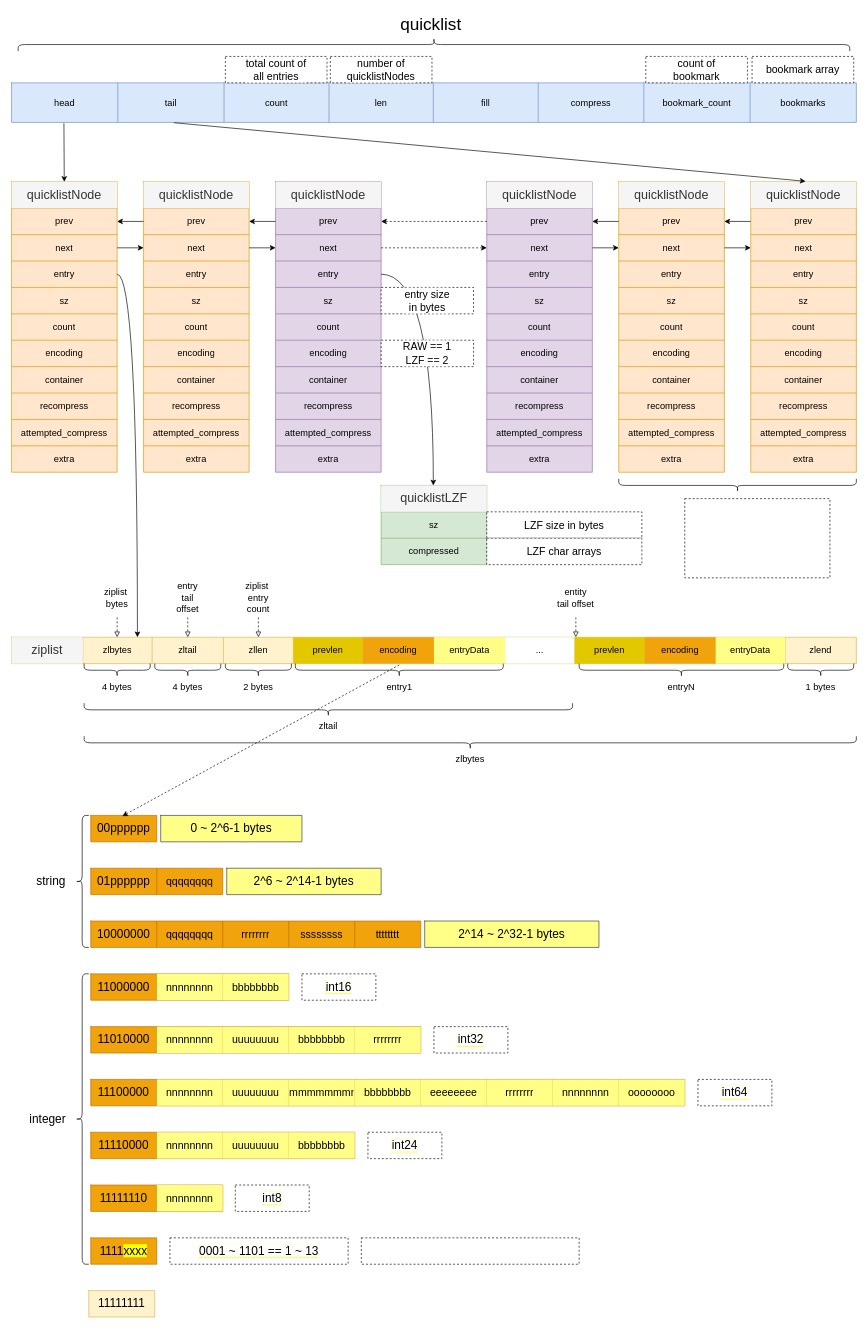
Image size: 868x1329. Some labels were removed from this diagram. The shapes that lost their labels are listed below. From the top down, each one's centre as x and y in pixels, then its label:
pixel 757 538: compress 0 是默认值，表示都不压缩正数表示不压缩的长度。
pixel 470 1250: 0000、1110、1111 三个值不能用
